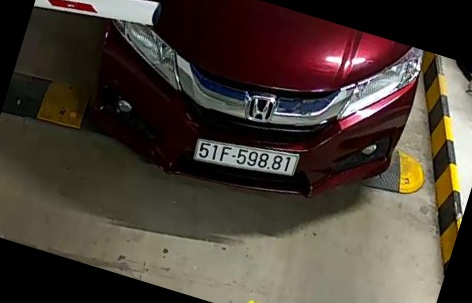plate: (191, 132, 305, 181)
